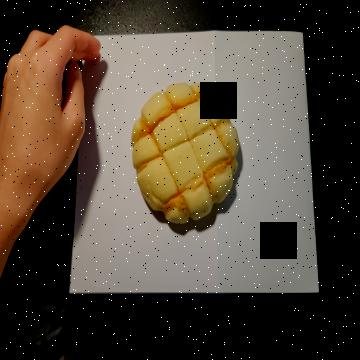melon_bread: (132, 84, 242, 227)
